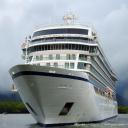cruises: (8, 8, 122, 128)
